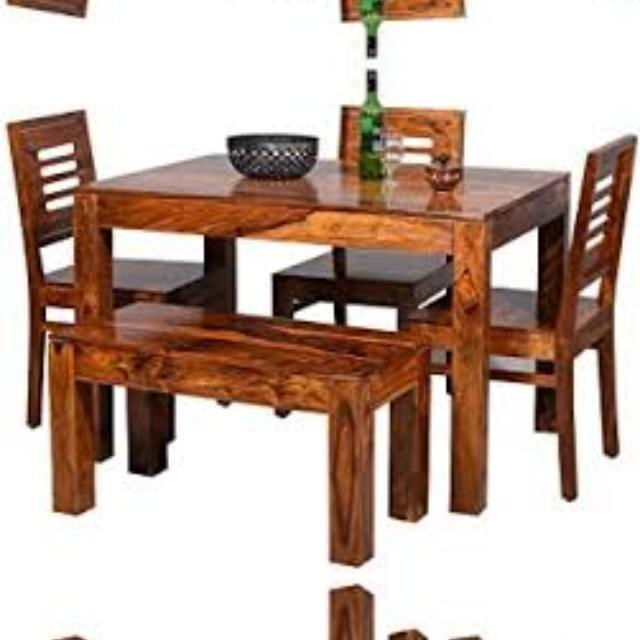obstacle: (35, 288, 448, 572), (0, 86, 124, 458), (542, 117, 628, 536), (34, 579, 447, 640), (0, 0, 123, 39), (541, 615, 628, 640), (541, 0, 628, 9)
